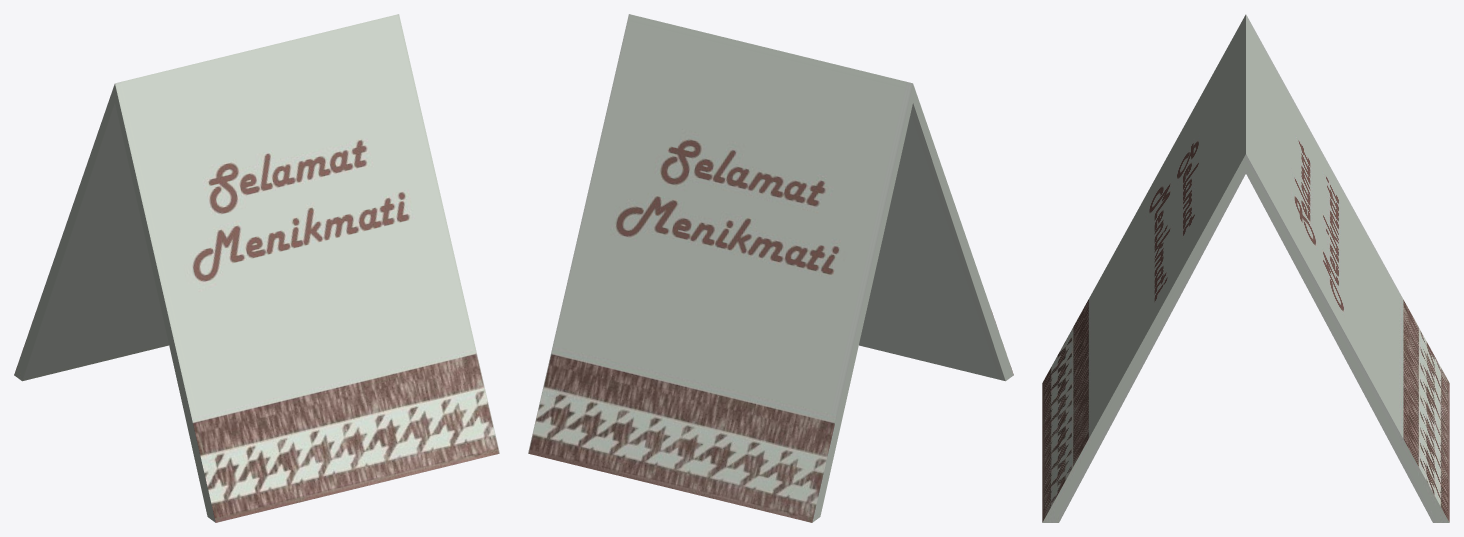
Rendered from nametag dan placemat.fbx.
The picture shows the model from 3 angles, left to right: view 1: azimuth 30°, elevation 25°; view 2: azimuth 150°, elevation 25°; view 3: azimuth 270°, elevation 25°; orthographic projection.
Parts seen in each view (by area): view 1: nametag; view 2: nametag; view 3: nametag.
Part boxes in pixels (box(x1,y1,x2,y2)): nametag: box(14, 14, 499, 522); nametag: box(528, 14, 1013, 522); nametag: box(1042, 14, 1449, 522).
Size of what is drawn, in the model's own units: 0.8789 by 1.08 by 1.08.
1 material, 1 textured.
